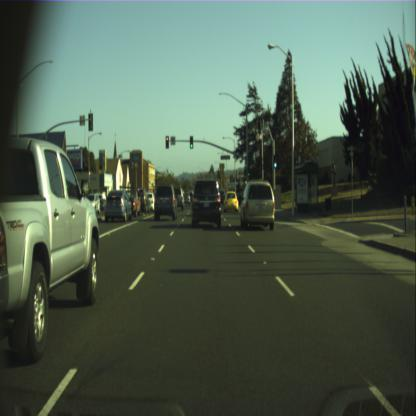Green: (246, 167, 250, 176), (190, 135, 192, 149), (274, 156, 276, 168)
RedLeft: (165, 136, 168, 148)
